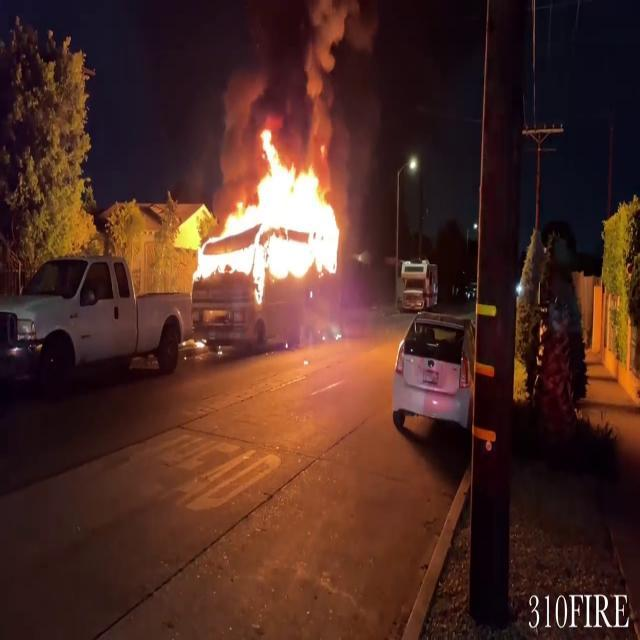Fire: (184, 130, 346, 292)
Smoke: (216, 0, 381, 175)
